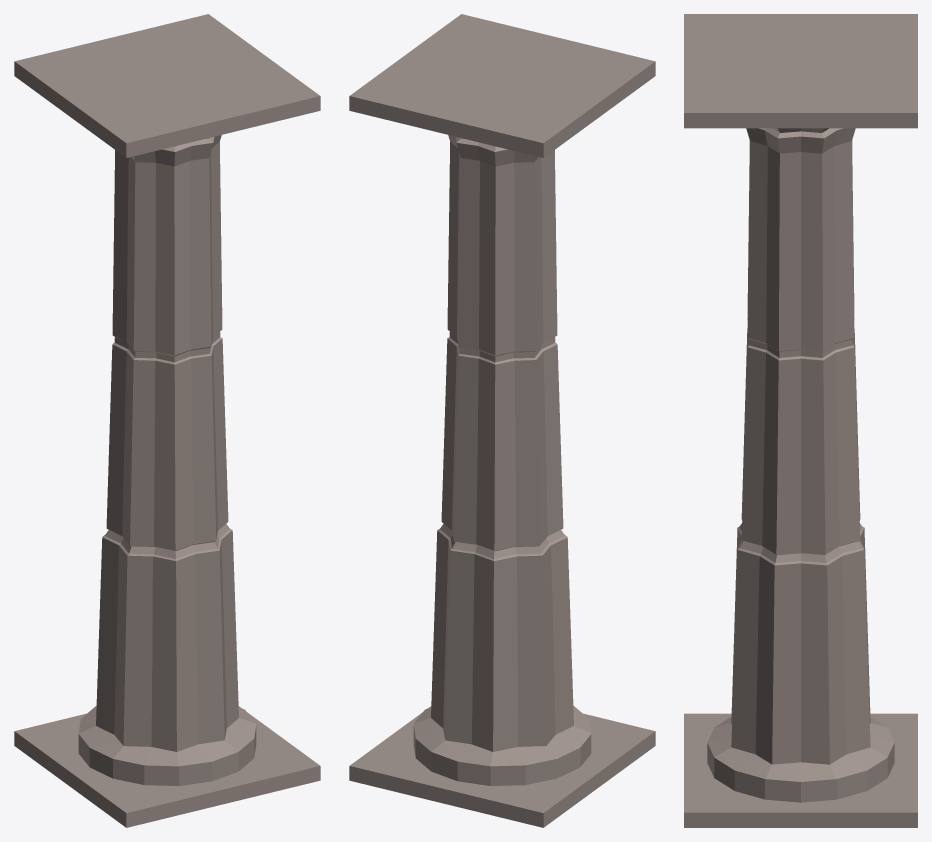
Rendered from Greek_Floor_Pillar.fbx.
The picture shows the model from 3 angles, left to right: view 1: azimuth 30°, elevation 25°; view 2: azimuth 150°, elevation 25°; view 3: azimuth 270°, elevation 25°; orthographic projection. The views are drawn at different scales.
Visible parts, largest first — view 1: Greek_Floor_Pillar; view 2: Greek_Floor_Pillar; view 3: Greek_Floor_Pillar.
Boxes of the visible parts, <box> form: Greek_Floor_Pillar: <box>14,14,320,827</box>; Greek_Floor_Pillar: <box>349,14,655,827</box>; Greek_Floor_Pillar: <box>684,14,917,827</box>.
Bounding box in the file's own units: 33.74 × 33.74 × 114.
